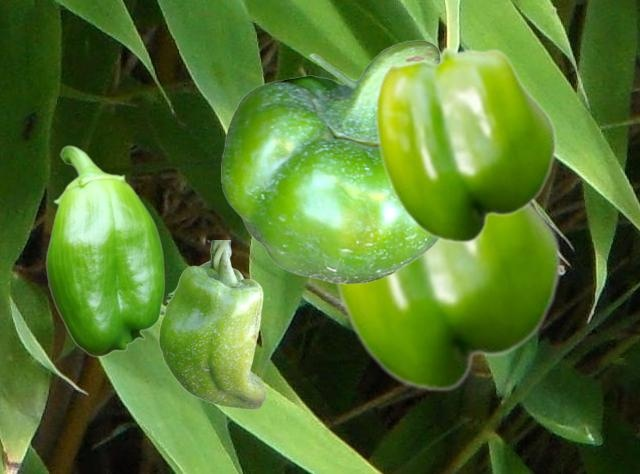bell_pepper: (221, 39, 440, 283), (332, 204, 561, 391), (375, 46, 556, 243), (45, 145, 164, 356), (158, 240, 265, 408)
